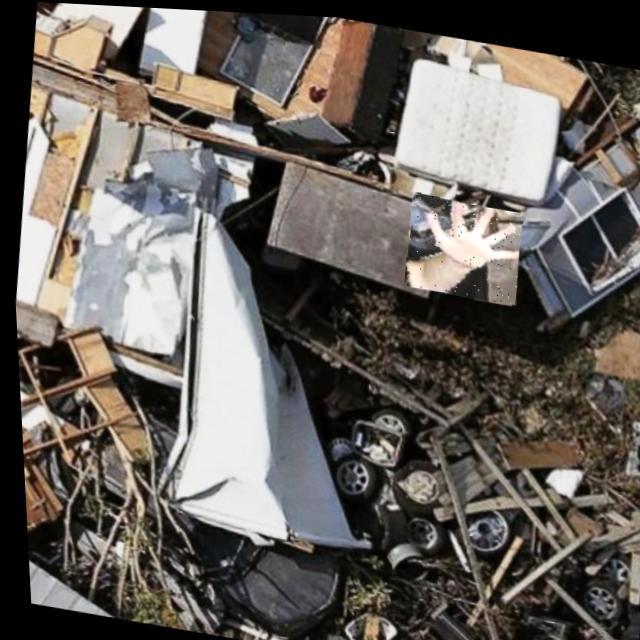Person in Rubble: (398, 188, 524, 301)
